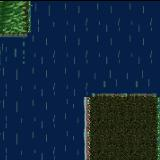Interaction: (20, 0, 37, 44), (0, 29, 21, 43)
Slow: (0, 35, 160, 92), (0, 93, 83, 160), (29, 0, 160, 35), (0, 0, 27, 31)
